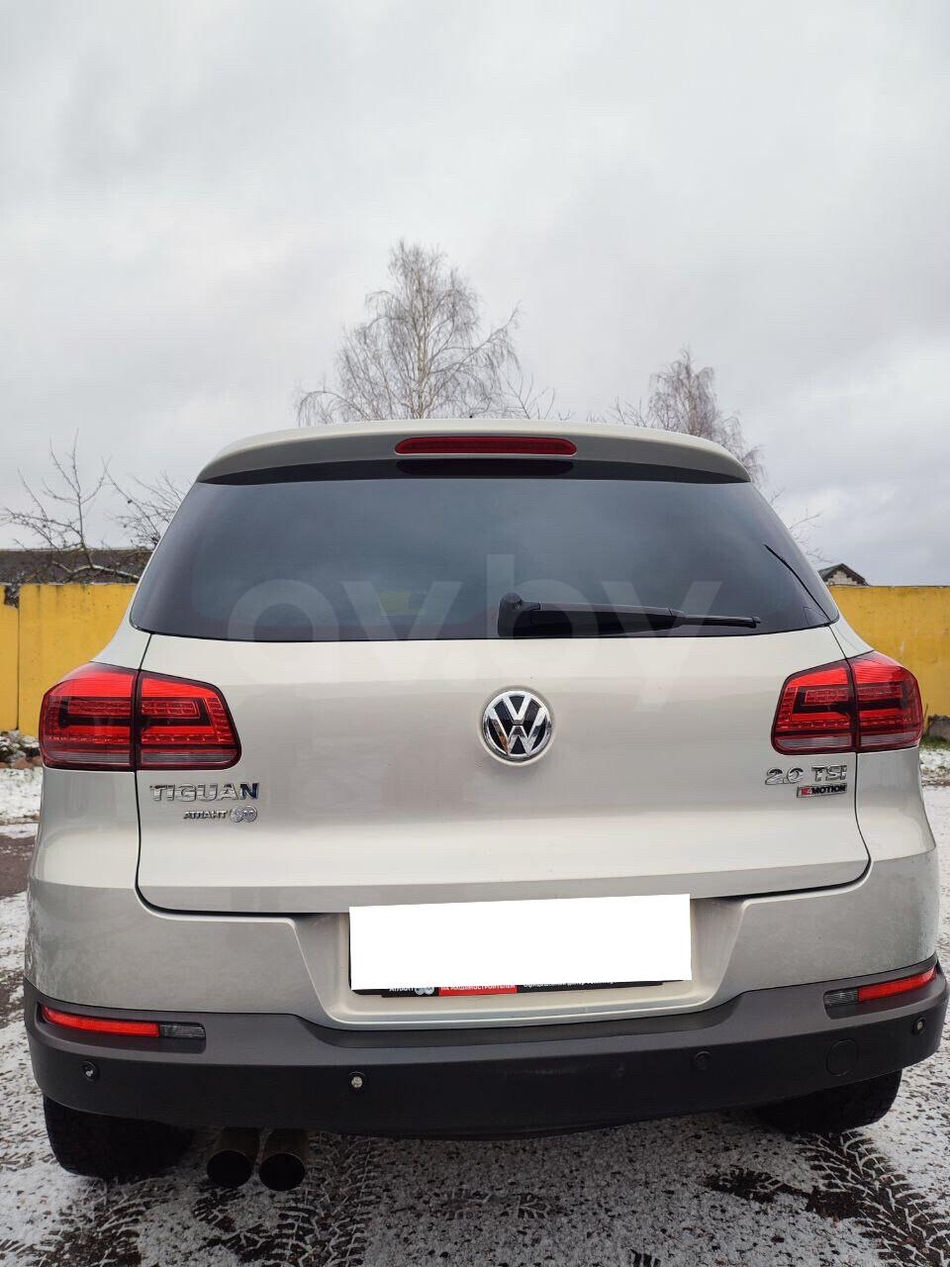Tiguan_2011-2018: (21, 417, 948, 1166)
